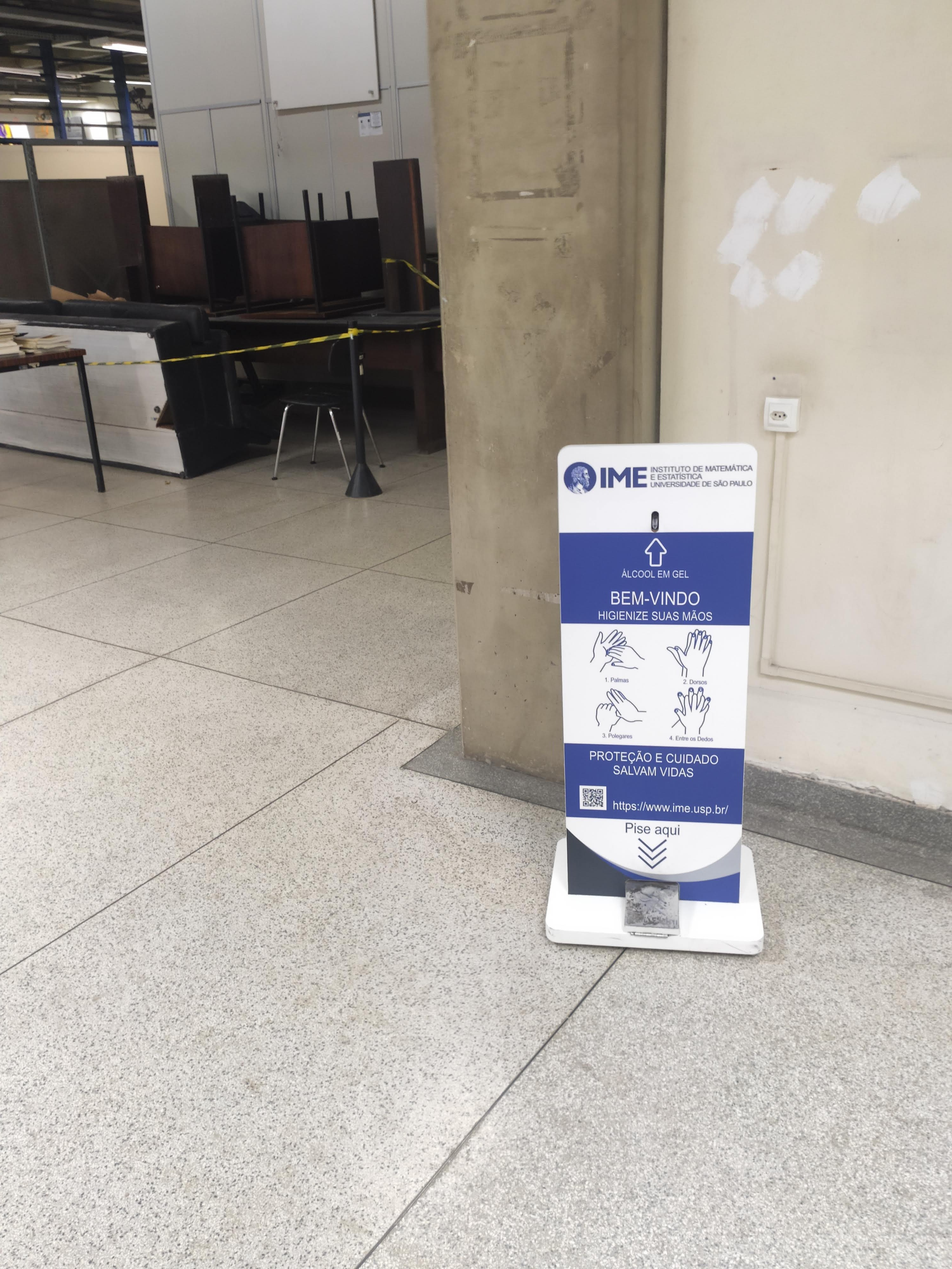QR-CODE: (583, 789, 603, 807)
